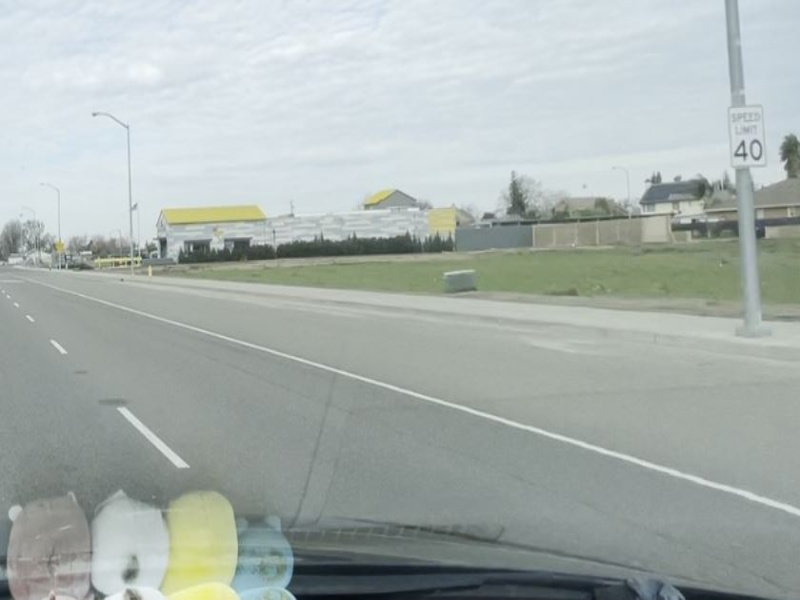speed limit sign: (724, 103, 769, 171)
